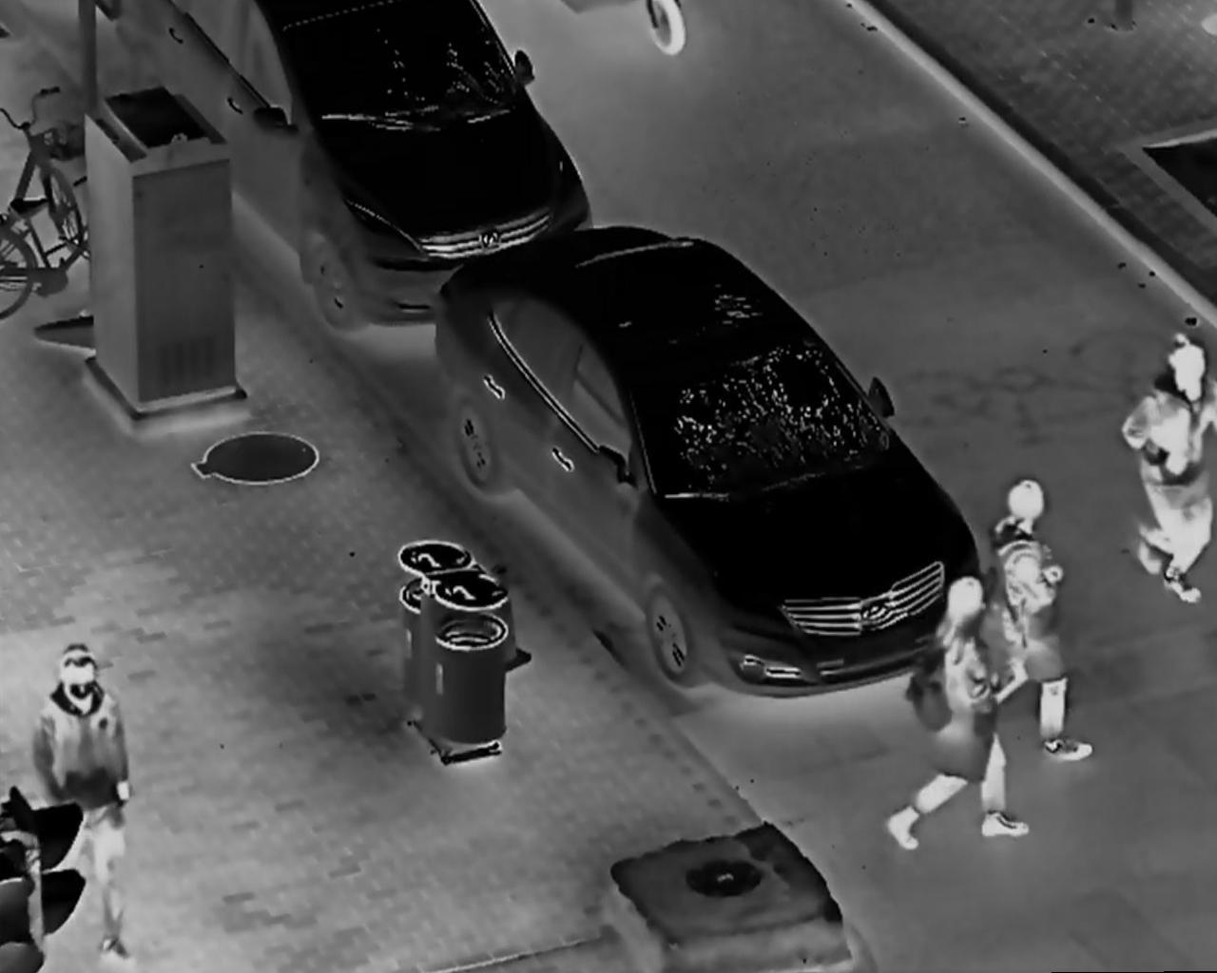person: (19, 639, 144, 971), (891, 572, 1030, 846), (981, 468, 1098, 769), (1113, 330, 1217, 606)
